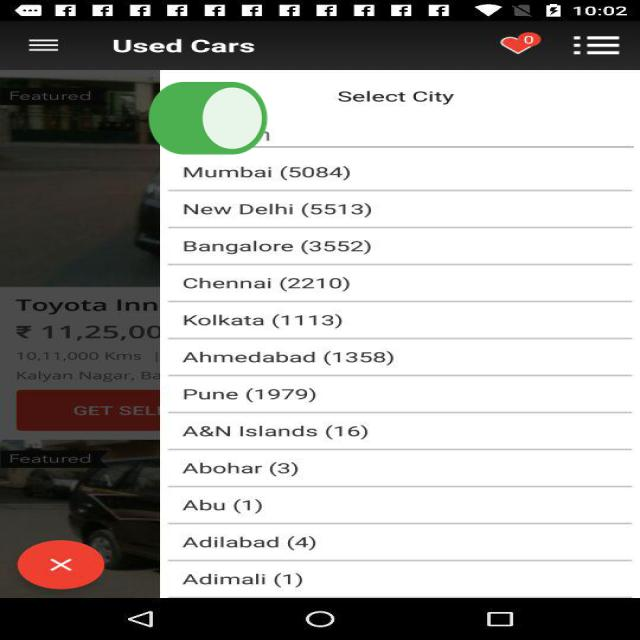social proof: (144, 54, 272, 188)
